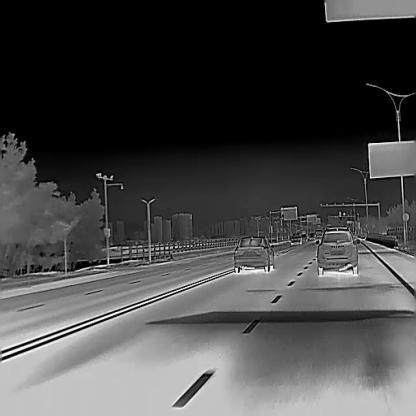car: (314, 228, 360, 275), (233, 235, 274, 272), (291, 233, 301, 245), (314, 230, 322, 240), (300, 233, 308, 242)
